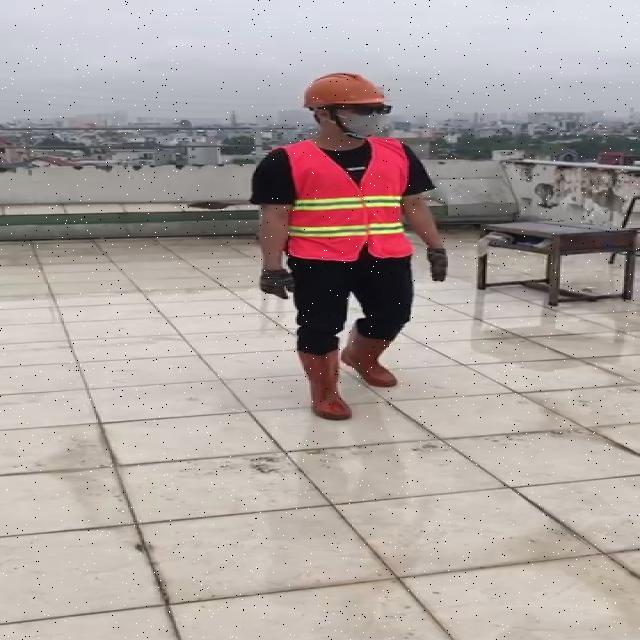Hard_hat: (298, 70, 398, 116)
Person: (237, 64, 450, 430)
Vest: (285, 136, 412, 264)
